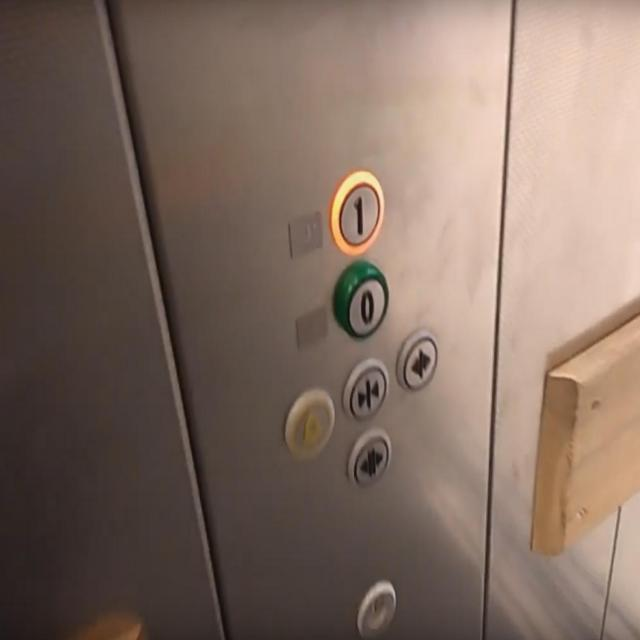0: (330, 258, 390, 339)
1: (330, 168, 385, 257)
alarm: (282, 386, 336, 462)
close: (341, 356, 389, 423)
keyhole: (356, 578, 397, 640)
open: (396, 324, 442, 396), (345, 428, 393, 488)
